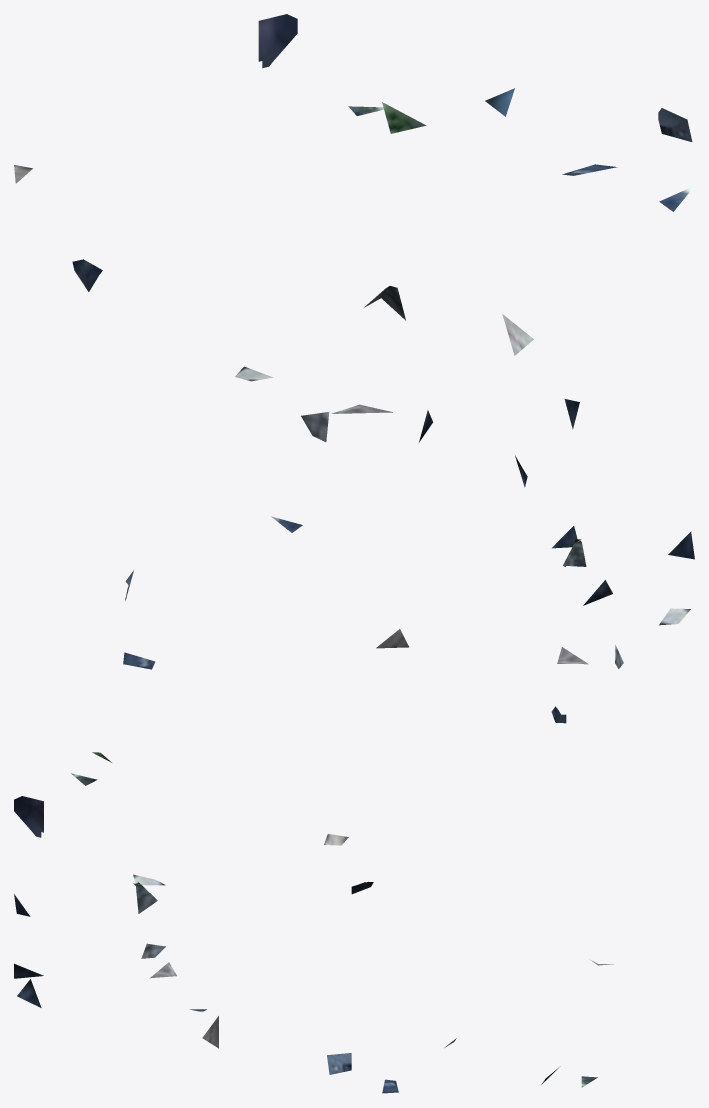
3 views of the same model, one above another, from view 1: azimuth 30°, elevation 25°; view 2: azimuth 150°, elevation 25°; view 3: azimuth 270°, elevation 25° (orthographic). The views are drawn at different scales.
Parts seen in each view (by area): view 1: 30436272704361536503_1; view 2: 30436272704361536503_1; view 3: 30436272704361536503_1.
Boxes of the visible parts, x1=… form: 30436272704361536503_1: x1=14, y1=14, x2=694, y2=487; 30436272704361536503_1: x1=14, y1=516, x2=694, y2=845; 30436272704361536503_1: x1=14, y1=874, x2=613, y2=1093.
Size of the model in its own units: 25.47 by 6.32 by 37.95.
1 material, 1 textured.
